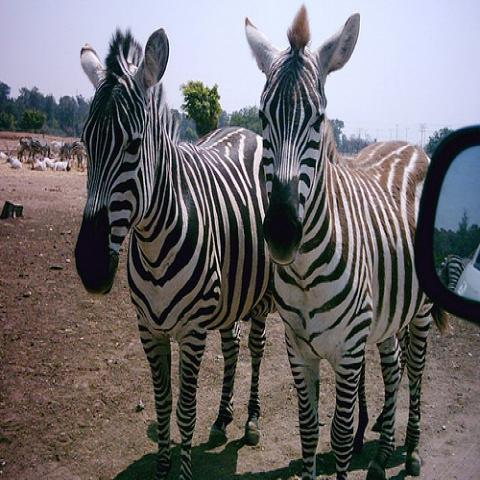car: (454, 245, 479, 305)
